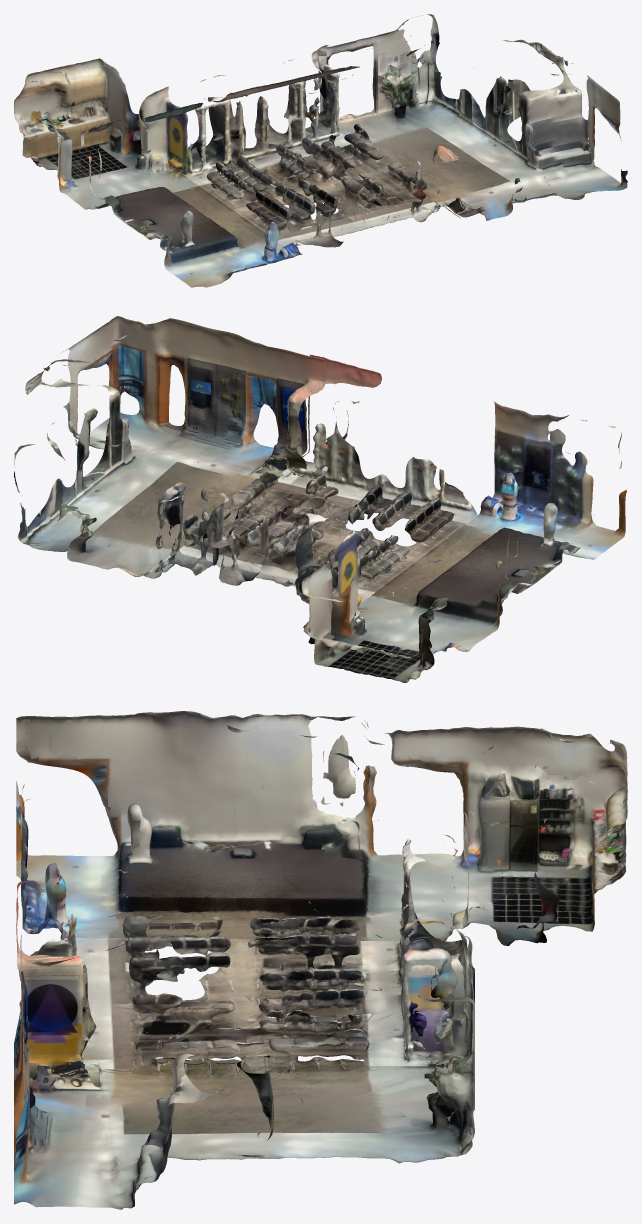
File: L10CommonSpace.glb
3 renders of one model, top to bottom at view 1: azimuth 30°, elevation 25°; view 2: azimuth 150°, elevation 25°; view 3: azimuth 270°, elevation 25°, orthographic. The views are drawn at different scales.
Visible parts, largest first — view 1: Container; view 2: Container; view 3: Container.
Part boxes in pixels (x1,y1,x2,y2): Container: [14, 14, 627, 287]; Container: [14, 316, 626, 682]; Container: [14, 711, 627, 1209].
Bounding box in the file's own units: 16 × 3.48 × 11.98.
3 materials, 3 textured.
